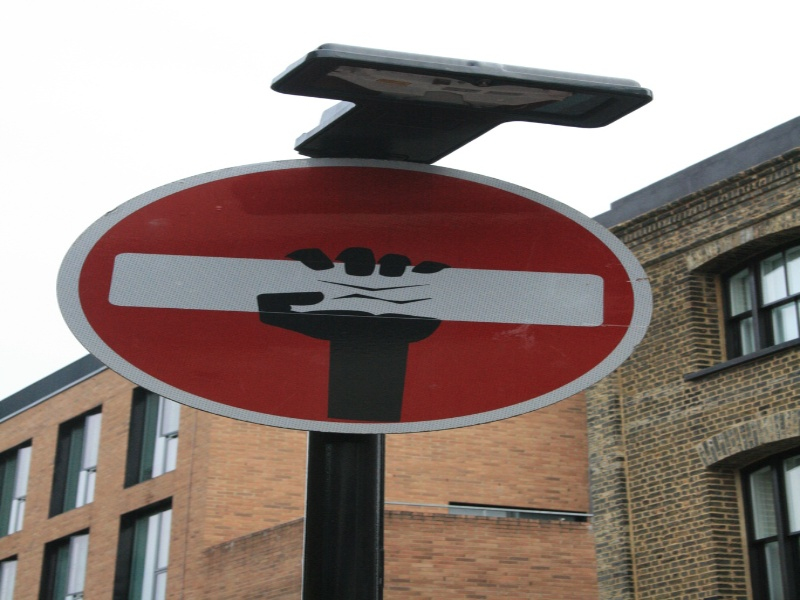no_entry: (49, 160, 665, 440)
